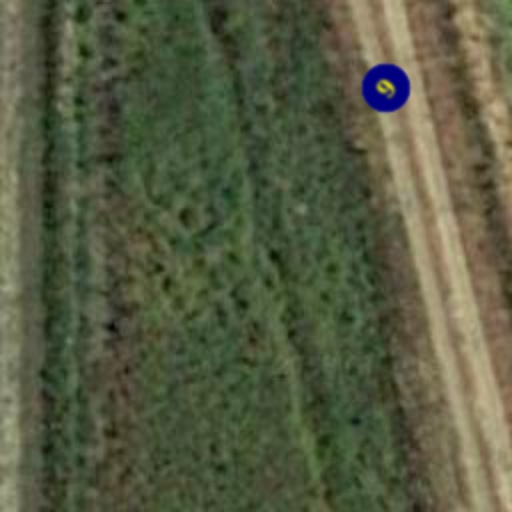circle: (350, 52, 422, 124)
